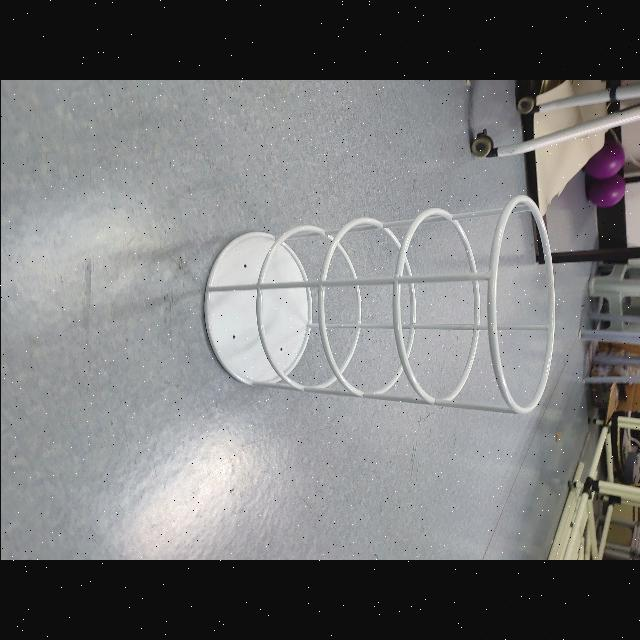S: (197, 194, 557, 416)
